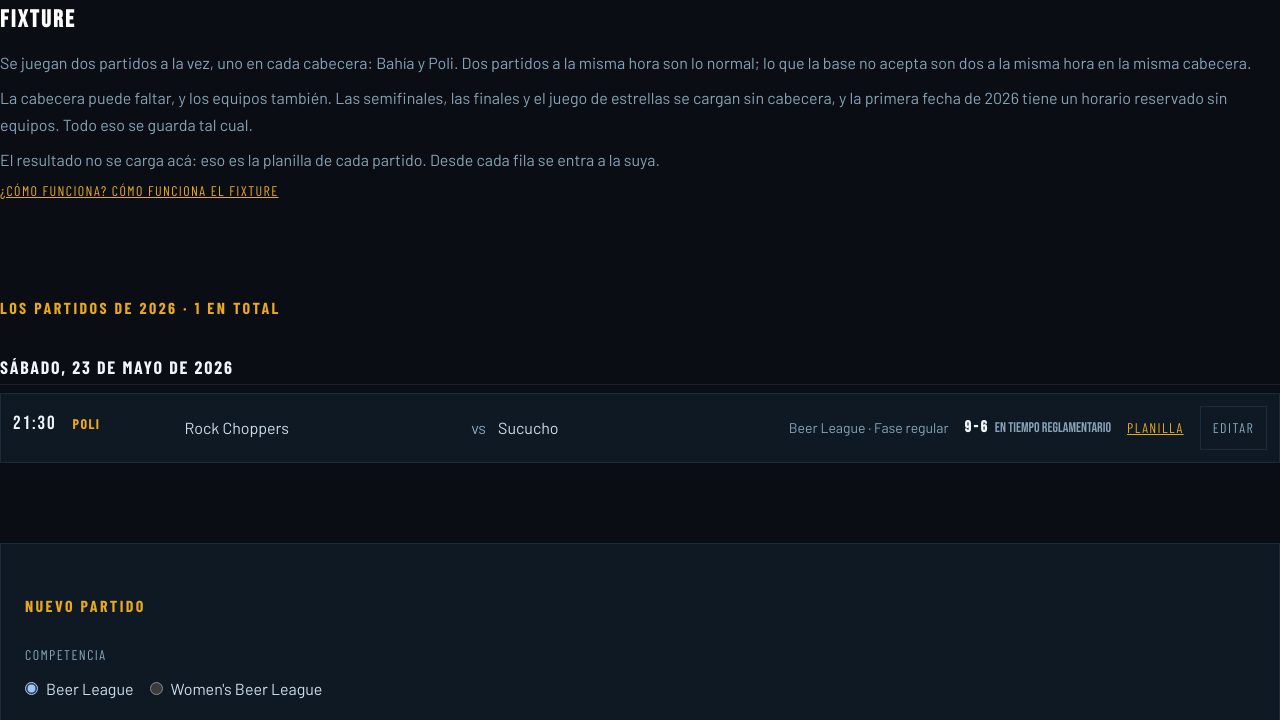
Test: FixtureScreen › writes nothing on a second save that changed nothing
This screenshot has width=1280, height=720.
Click the button with aria-label "Editar el partido de Sábado, 23 de mayo de 2026 a las 21:30": (1233, 428) [1200,406,1267,450]
(page scrolled)
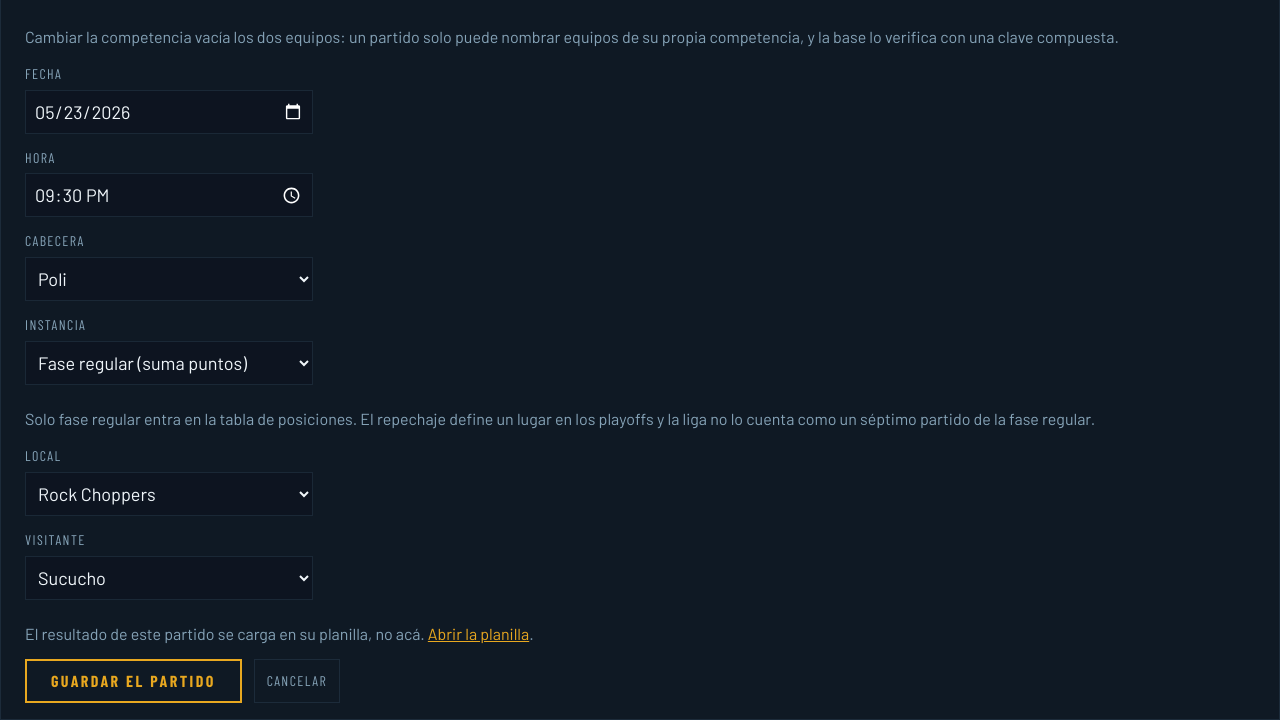
Click the button "Guardar el partido": (133, 681) [25,659,242,703]
(page scrolled)
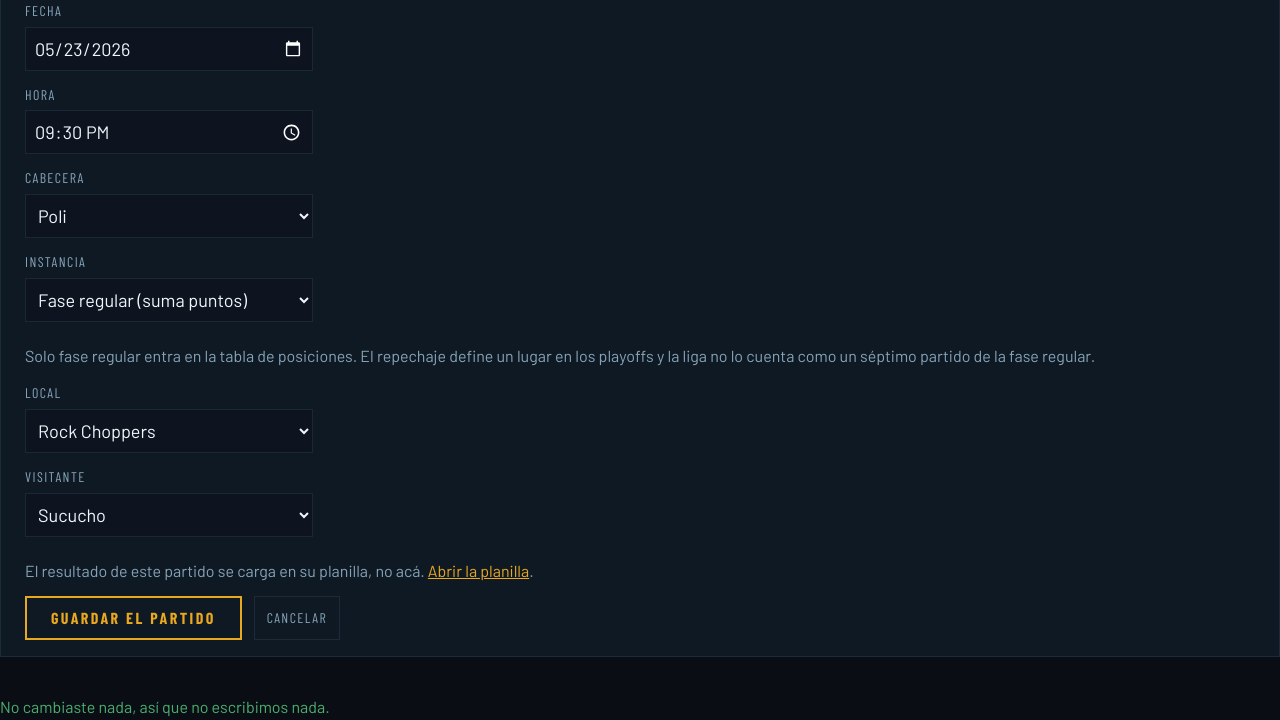
Expected: the message reads "No cambiaste nada, así que no escribimos nada.", [0,697,330,716]
